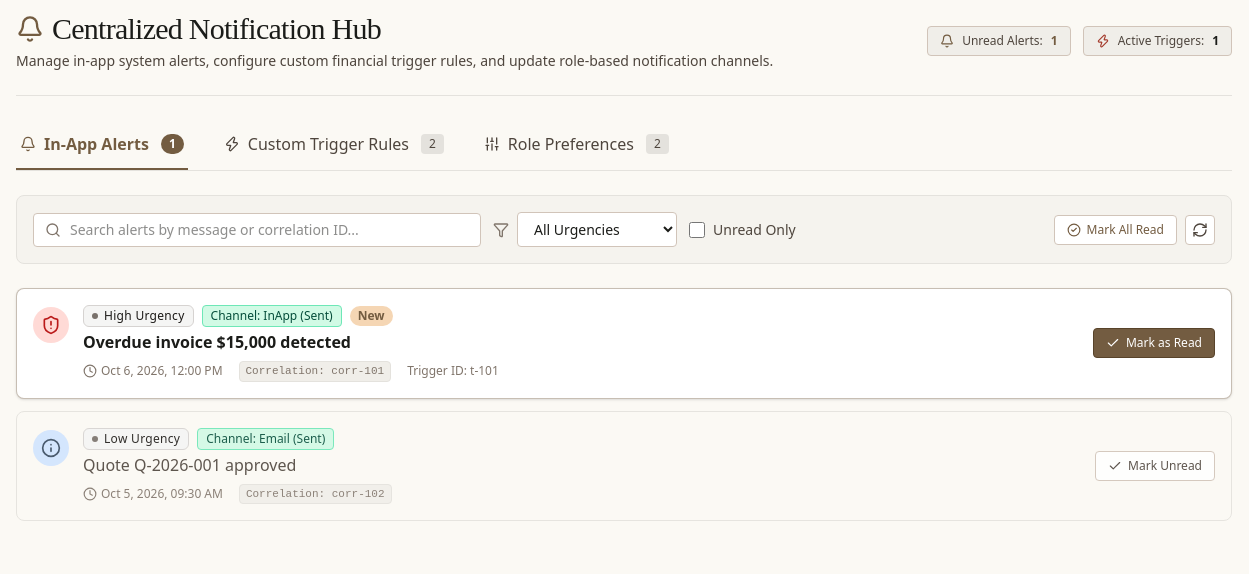
Test case: NotificationHub Component [FR-5, FR-6, FR-7] › Tab Navigation & Structure › switches between tabs when clicked
The image size is (1249, 574).
Expected: the panel with test id "alerts-panel" is shown, [16,195,1232,521]
Click Triggers tab
Step 1. Click the tab with test id "tab-triggers-btn" → (334,145), box [220,120,448,170]
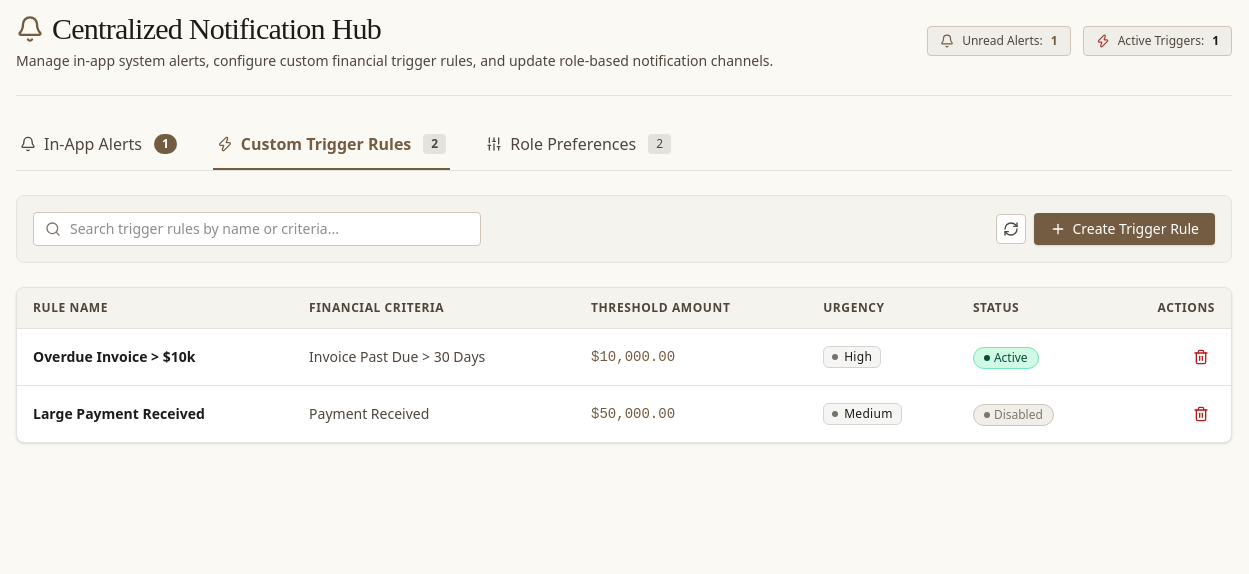
Now the panel with test id "triggers-panel" is shown, box [16,195,1232,443]
Now the panel with test id "alerts-panel" is gone
Click Preferences tab
Step 2. Click the tab with test id "tab-preferences-btn" → (579,145), box [482,120,675,170]
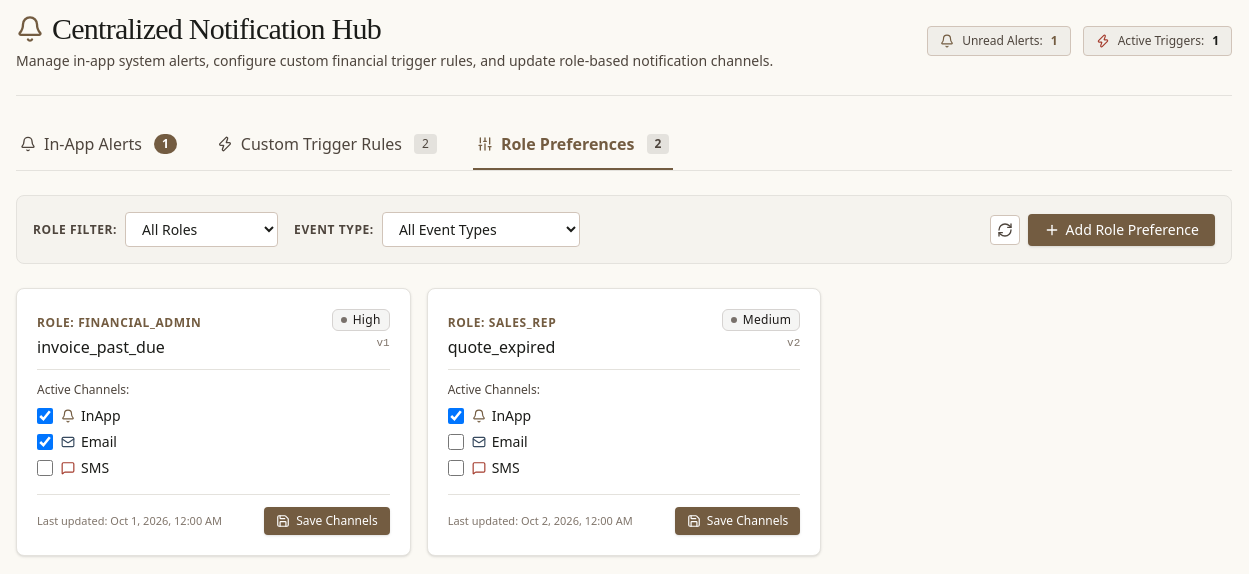
Now the panel with test id "preferences-panel" is shown
Now the panel with test id "triggers-panel" is gone
